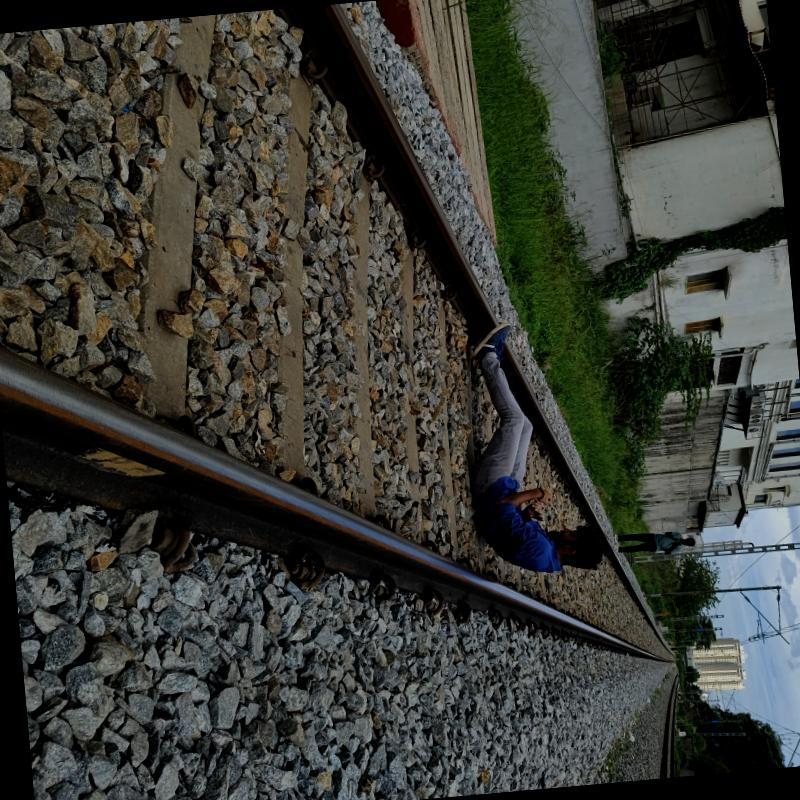sleeping: (450, 304, 616, 596)
